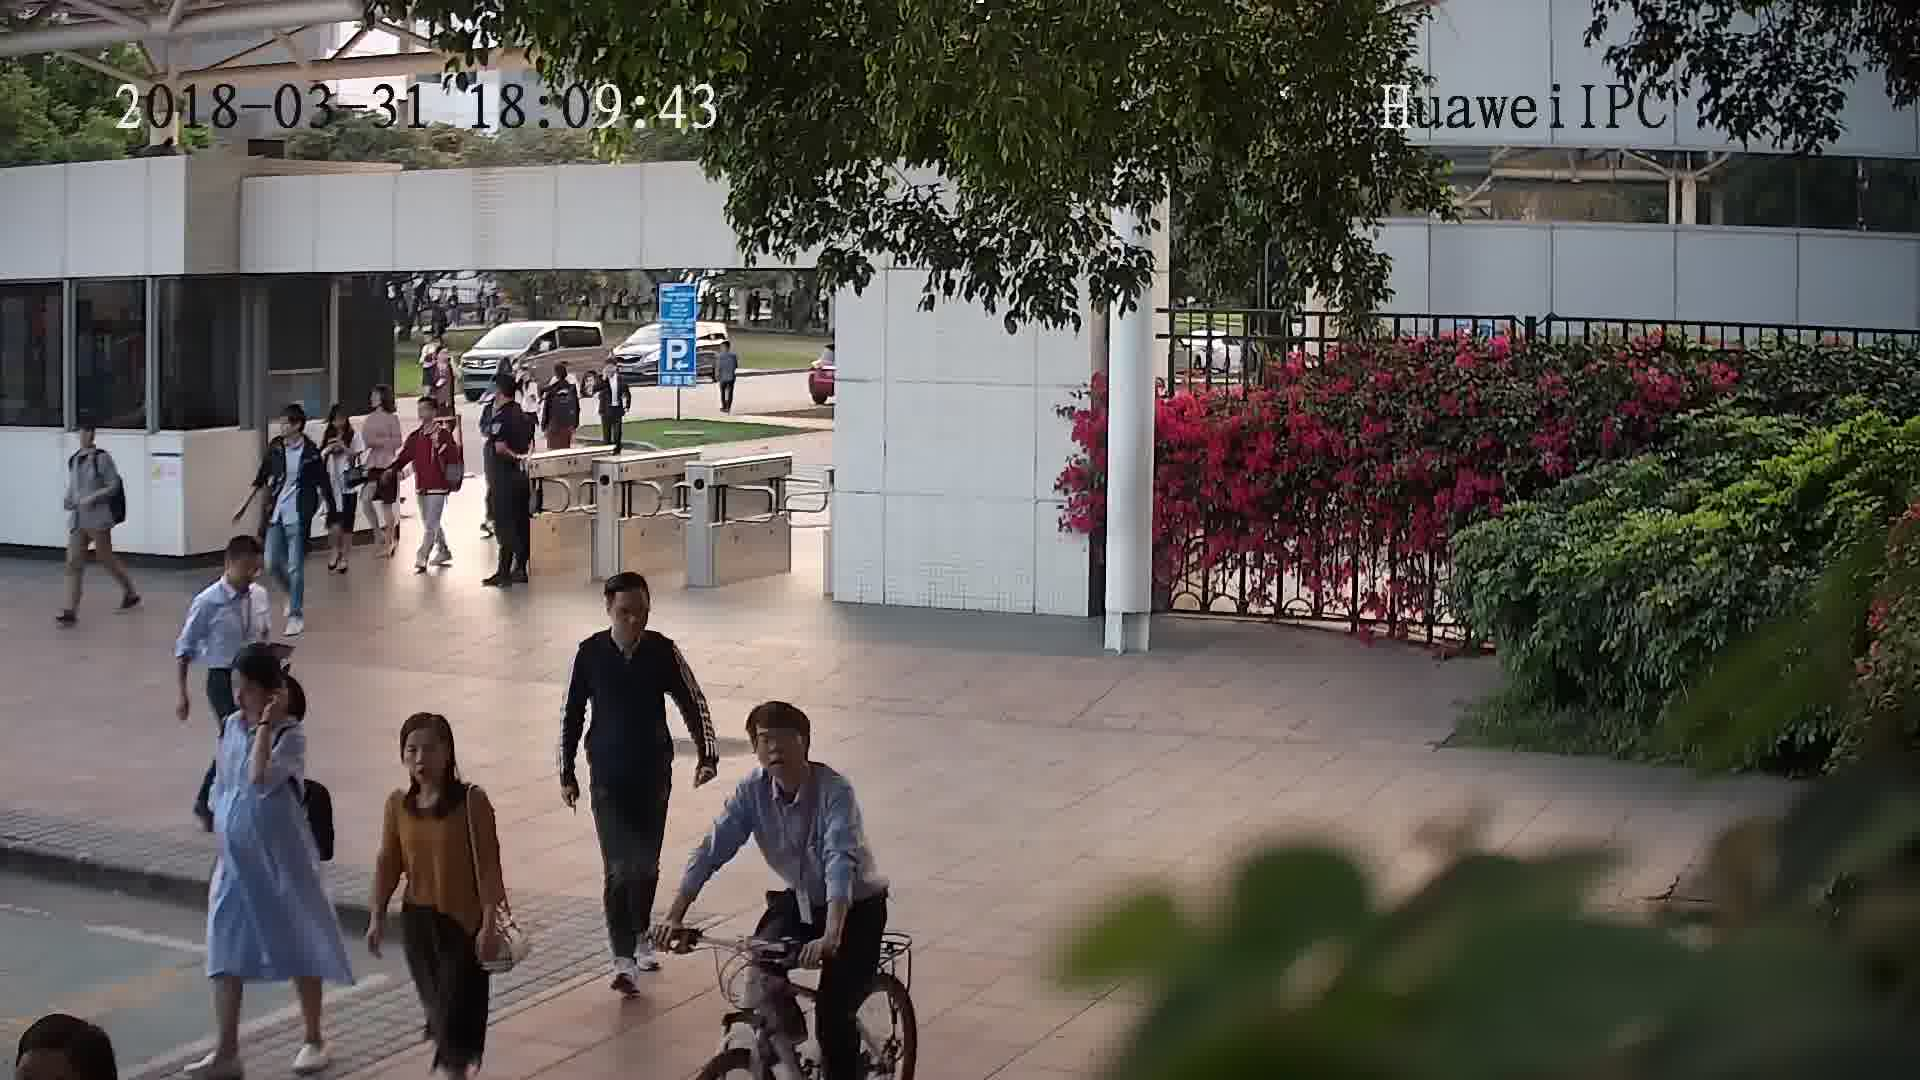face: (754, 723, 807, 776), (399, 731, 451, 783), (606, 587, 658, 639), (224, 665, 274, 714)
person: (732, 697, 860, 820), (382, 710, 495, 825), (217, 641, 309, 755), (580, 569, 679, 667), (198, 533, 276, 616), (272, 401, 324, 457), (65, 412, 116, 470), (404, 394, 454, 448), (485, 370, 529, 427), (359, 381, 403, 429), (320, 397, 361, 445), (540, 356, 580, 400), (595, 358, 632, 388), (427, 345, 455, 376), (712, 337, 742, 362)
